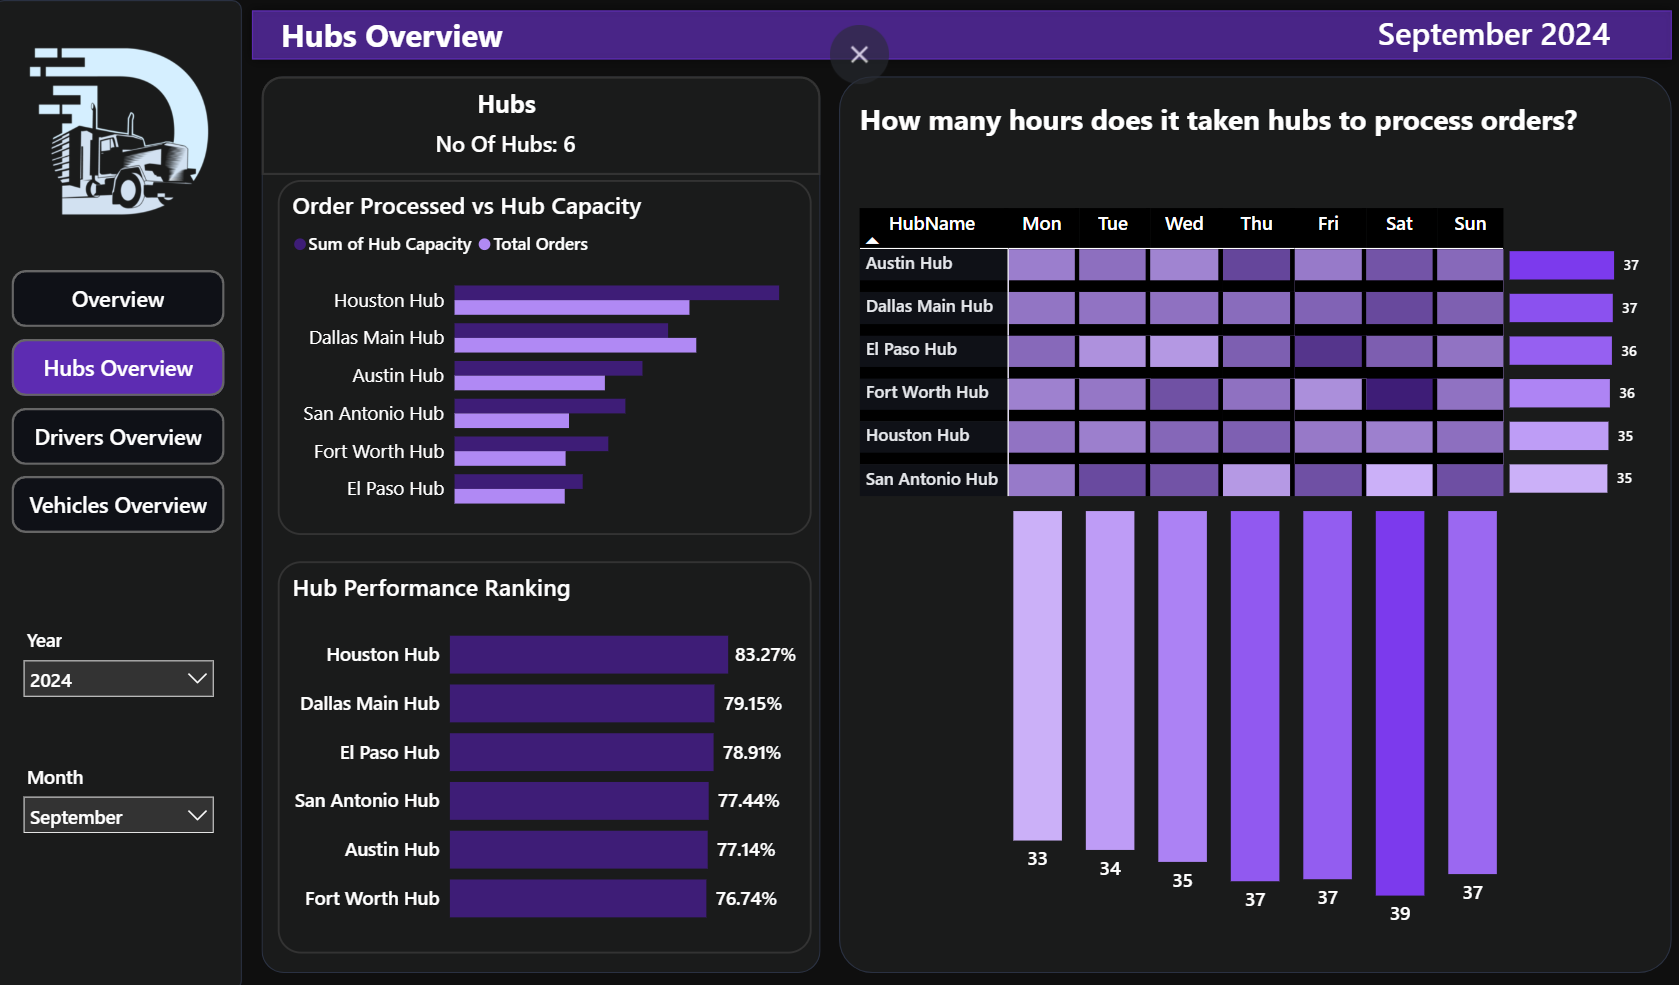

Layout of this report page (visuals, bound fields, positions):
{"tool":"powerbi","page":{"name":"Hubs Overview","canvas":[1450,850],"ordinal":1},"visuals":[{"type":"shape","box":[212.9,0,1237.1,60],"z":0},{"type":"textbox","box":[241.7,6.7,458.3,48.3],"z":1000},{"type":"shape","box":[230,65,480,770],"z":2000},{"type":"shape","box":[230,65,480,85],"z":3000},{"type":"cardVisual","fields":{"Data":["Orders.Year Month Title"]},"box":[1135,0,305,53.3],"z":4000},{"type":"shape","box":[725,65,715,770],"z":5000},{"type":"shape","box":[0,0,212.9,850.3],"z":6000},{"type":"slicer","fields":{"Values":["Date Table.Year"]},"box":[15,533.3,183.3,68.3],"z":7000},{"type":"slicer","fields":{"Values":["Date Table.Month"]},"box":[15,650,183.3,70],"z":8000},{"type":"pageNavigator","box":[15,231.7,183.3,228.3],"z":9000},{"type":"clusteredBarChart","title":"Order Processed vs Hub Capacity","fields":{"Category":["Hubs.HubName"],"Y":["Sum(Hubs.Hub Capacity)","Orders.Total Orders"]},"box":[243.3,155,458.3,305],"z":10000},{"type":"barChart","title":"Hub Performance Ranking","fields":{"Category":["Hubs.HubName"],"Y":["Orders.On Time Delivery Rate"]},"box":[243.3,481.7,458.3,336.7],"z":11000},{"type":"pivotTable","fields":{"Rows":["Hubs.HubName"],"Columns":["Date Table.Day"],"Values":["Orders.Avg Delivery Time (Hrs)"]},"box":[738.3,173.3,573.3,276.7],"z":12000},{"type":"columnChart","fields":{"Category":["Date Table.Day"],"Y":["Orders.Avg Delivery Time (Hrs)"]},"box":[870,425,427,378.3],"z":13000},{"type":"barChart","fields":{"Category":["Orders.Hub Name"],"Y":["Orders.Avg Delivery Time (Hrs)"]},"box":[1296.7,203.3,143.3,226.7],"z":14000},{"type":"textbox","box":[387.2,69.2,105.1,55.9],"z":15000},{"type":"cardVisual","fields":{"Data":["Hubs.No of Hubs"]},"box":[323.3,106.4,232.9,30.6],"z":16000},{"type":"textbox","box":[738.3,81.7,658.3,50],"z":17000},{"type":"image","box":[15,13.3,188.3,211.7],"z":18000}]}

Visuals, with their boxes on the page's 1450x850 design canvas (x1, y1, x2, y2). These are canvas units, not pixel positions in the 1679x985 screenshot, which may show the page scaled, cropped or inside an application window:
shape: {"x1": 213, "y1": 0, "x2": 1450, "y2": 60}
textbox: {"x1": 242, "y1": 7, "x2": 700, "y2": 55}
shape: {"x1": 230, "y1": 65, "x2": 710, "y2": 835}
shape: {"x1": 230, "y1": 65, "x2": 710, "y2": 150}
cardVisual - Orders.Year Month Title: {"x1": 1135, "y1": 0, "x2": 1440, "y2": 53}
shape: {"x1": 725, "y1": 65, "x2": 1440, "y2": 835}
shape: {"x1": 0, "y1": 0, "x2": 213, "y2": 850}
slicer - Date Table.Year: {"x1": 15, "y1": 533, "x2": 198, "y2": 602}
slicer - Date Table.Month: {"x1": 15, "y1": 650, "x2": 198, "y2": 720}
pageNavigator: {"x1": 15, "y1": 232, "x2": 198, "y2": 460}
"Order Processed vs Hub Capacity" clusteredBarChart: {"x1": 243, "y1": 155, "x2": 702, "y2": 460}
"Hub Performance Ranking" barChart: {"x1": 243, "y1": 482, "x2": 702, "y2": 818}
pivotTable - Hubs.HubName x Date Table.Day: {"x1": 738, "y1": 173, "x2": 1312, "y2": 450}
columnChart - Date Table.Day x Orders.Avg Delivery Time (Hrs): {"x1": 870, "y1": 425, "x2": 1297, "y2": 803}
barChart - Orders.Hub Name x Orders.Avg Delivery Time (Hrs): {"x1": 1297, "y1": 203, "x2": 1440, "y2": 430}
textbox: {"x1": 387, "y1": 69, "x2": 492, "y2": 125}
cardVisual - Hubs.No of Hubs: {"x1": 323, "y1": 106, "x2": 556, "y2": 137}
textbox: {"x1": 738, "y1": 82, "x2": 1397, "y2": 132}
image: {"x1": 15, "y1": 13, "x2": 203, "y2": 225}
